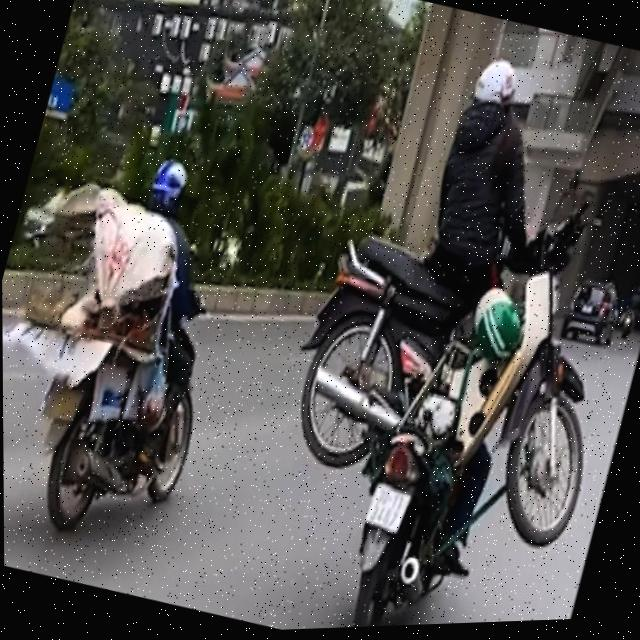motorcycle: (261, 130, 640, 566), (18, 268, 233, 559), (321, 389, 490, 628)
plate: (357, 473, 416, 538)
